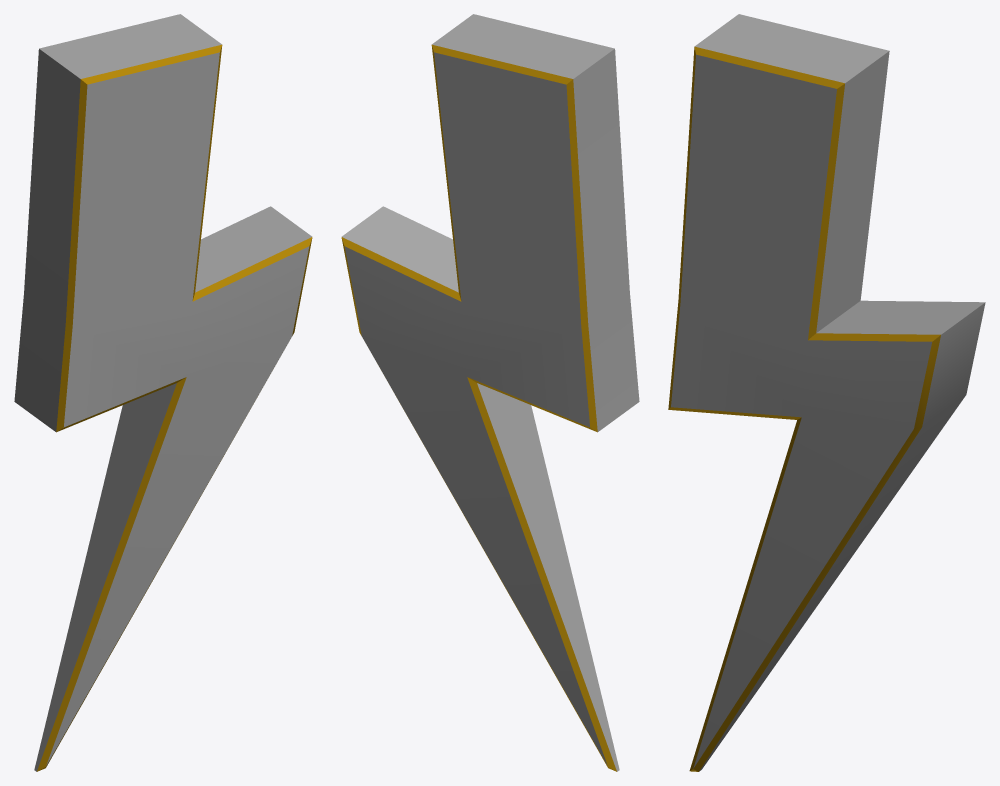
The model's file is SpeedPack.fbx.
3 views of the same model, side by side, from view 1: azimuth 30°, elevation 25°; view 2: azimuth 150°, elevation 25°; view 3: azimuth 330°, elevation 25° (orthographic). The views are drawn at different scales.
Parts seen in each view (by area): view 1: pCube74; view 2: pCube74; view 3: pCube74.
Part boxes in pixels (<box>): pCube74: <box>14,14,312,771</box>; pCube74: <box>341,14,639,771</box>; pCube74: <box>668,14,985,771</box>.
Size of the model in its own units: 75.14 by 196 by 23.83.
